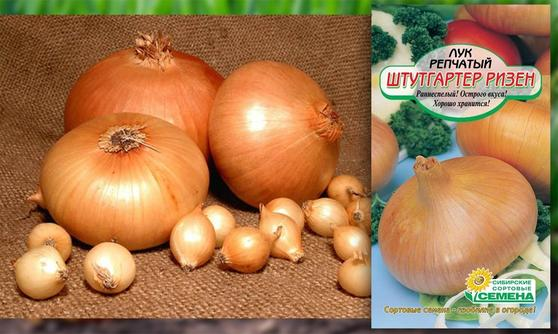onion: (41, 114, 211, 248), (209, 55, 345, 208)
